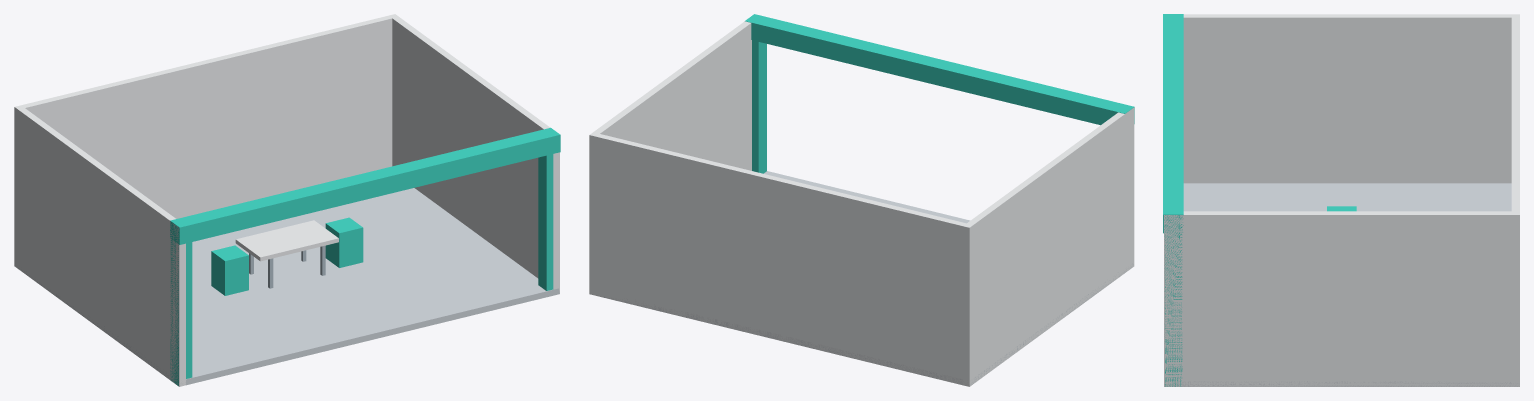
3 renders of one model, left to right at view 1: azimuth 30°, elevation 25°; view 2: azimuth 150°, elevation 25°; view 3: azimuth 270°, elevation 25°, orthographic. The views are drawn at different scales.
Visible parts, largest first — view 1: Exhibition Booth Concept; view 2: Exhibition Booth Concept; view 3: Exhibition Booth Concept.
Part boxes in pixels (x1,y1,x2,y2): Exhibition Booth Concept: (14,14,560,386); Exhibition Booth Concept: (589,14,1134,386); Exhibition Booth Concept: (1163,14,1519,386).
Bounding box in the file's own units: 8 × 3.2 × 6.02.
